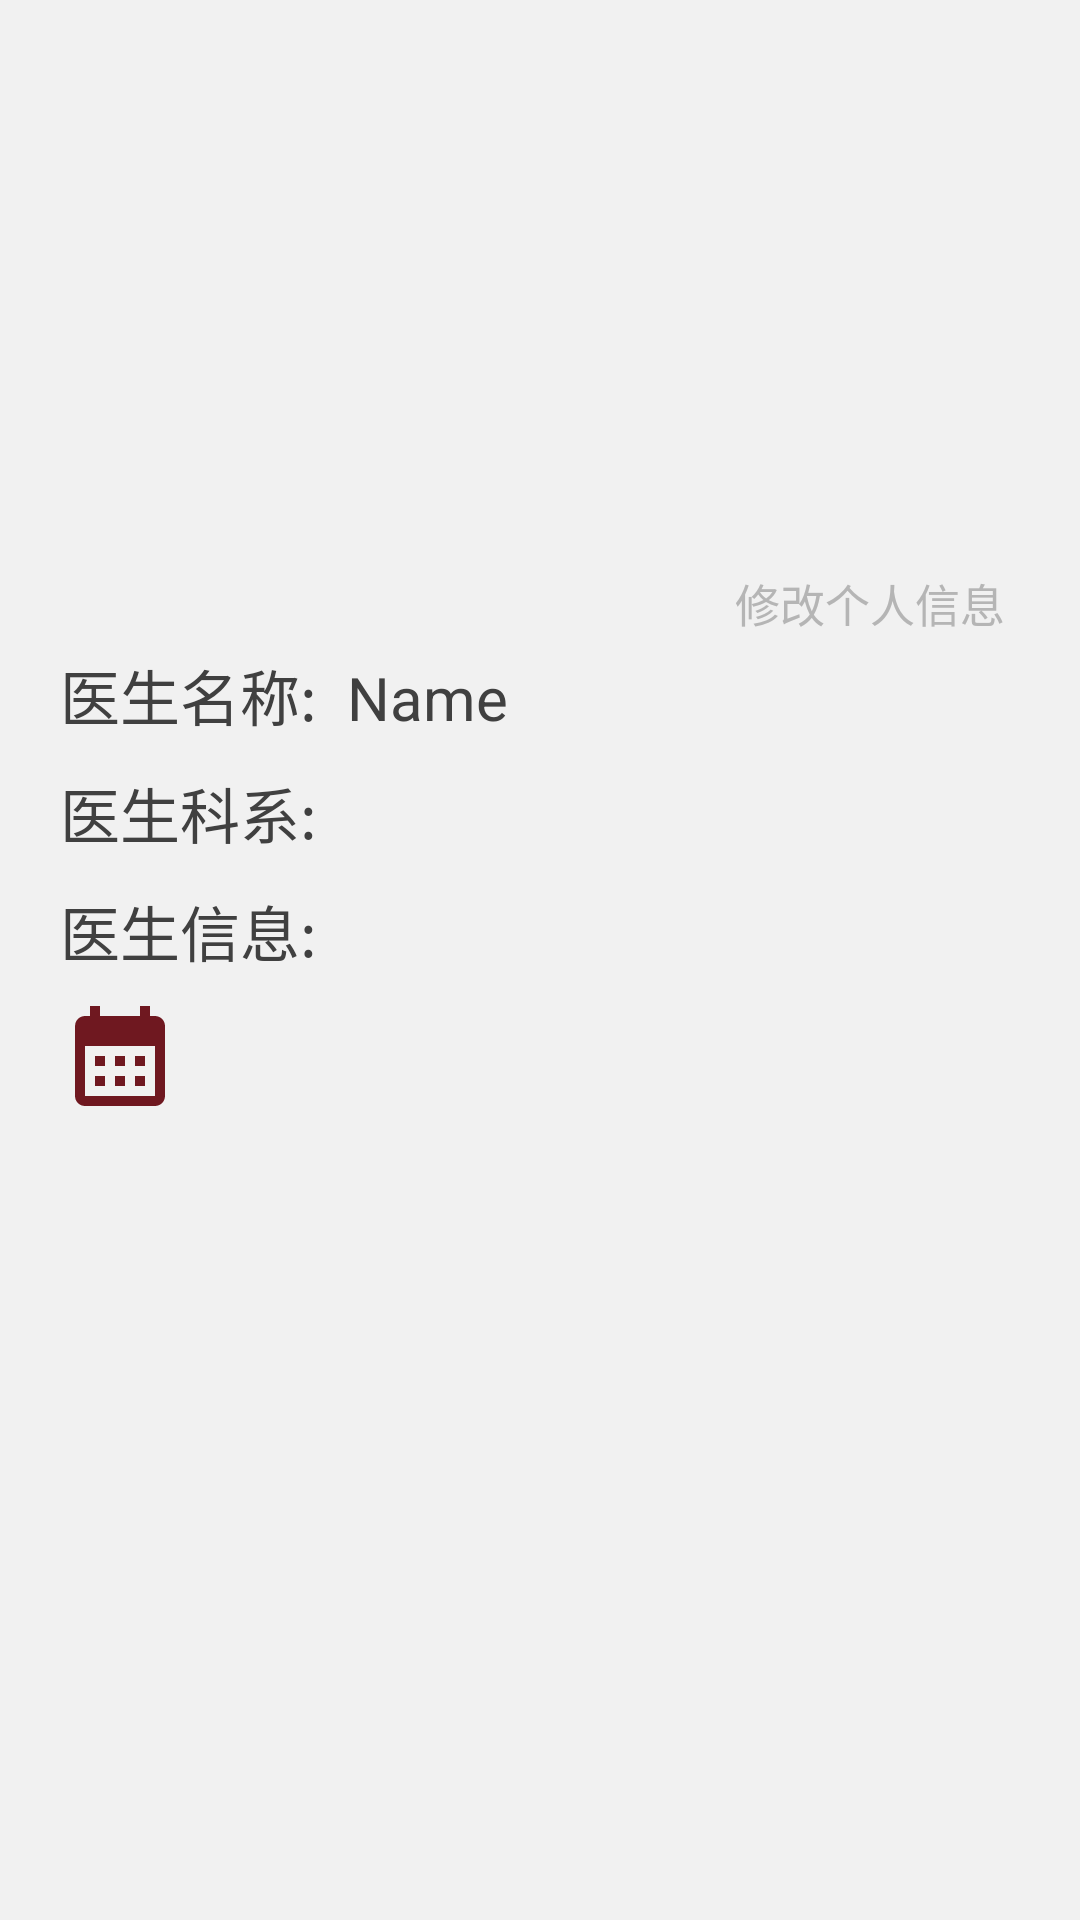

Point at icon controls on the screen. Image size 1080px x 1920px, points as [x,y].
calendar month: [120,1056]
